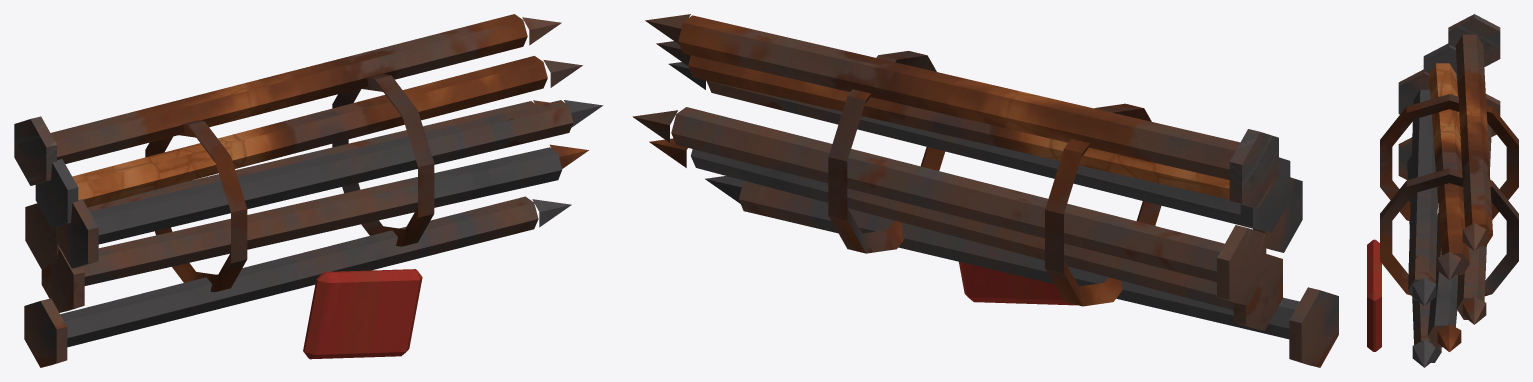
Rendered from Loot_Nails.glb.
The picture shows the model from 3 angles, left to right: view 1: azimuth 30°, elevation 25°; view 2: azimuth 150°, elevation 25°; view 3: azimuth 270°, elevation 25°; orthographic projection. The views are drawn at different scales.
Visible parts, largest first — view 1: Loot_Nails; view 2: Loot_Nails; view 3: Loot_Nails.
Part boxes in pixels (box(x1,y1,x2,y2)): Loot_Nails: box(14, 14, 603, 367); Loot_Nails: box(632, 14, 1338, 367); Loot_Nails: box(1367, 14, 1518, 367).
Bounding box in the file's own units: 0.4245 × 0.1909 × 0.1216.
Materials: 3 (3 with a texture image).
